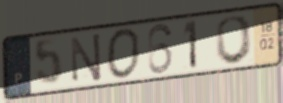1: (182, 17, 199, 73)
5: (32, 36, 66, 90)
6: (146, 22, 174, 76)
N: (69, 31, 104, 85)
O: (214, 13, 255, 67), (105, 26, 142, 81)
